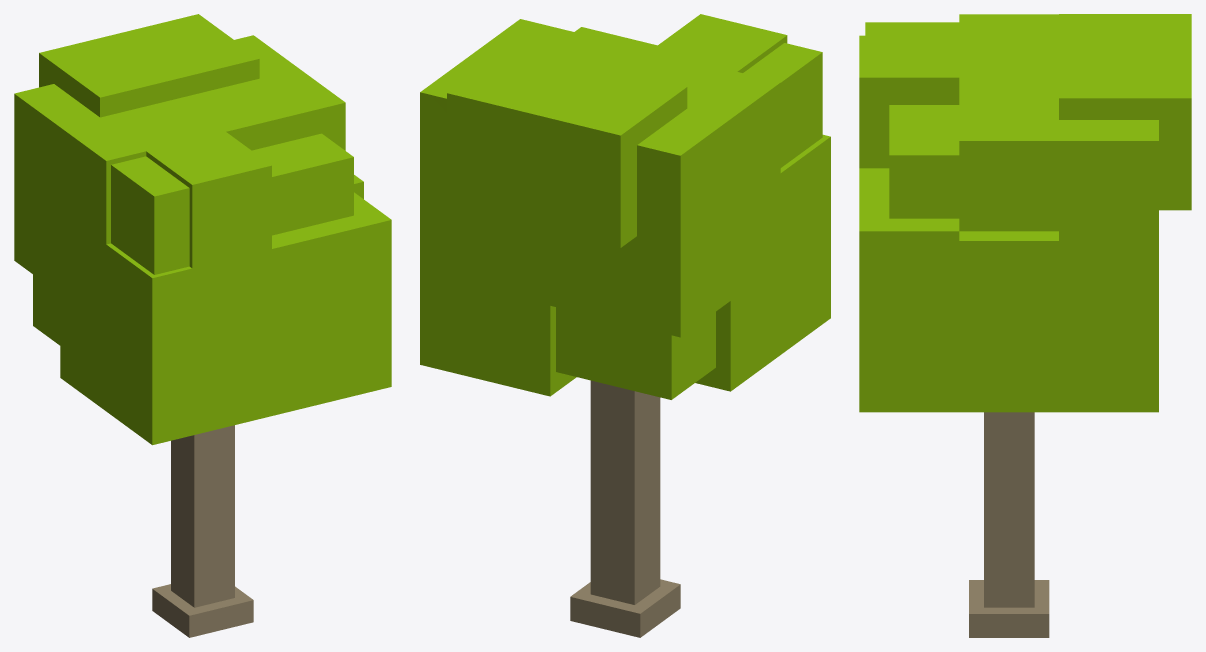
Rendered from tree_boxy_2.fbx.
3 views of the same model, side by side, from view 1: azimuth 30°, elevation 25°; view 2: azimuth 150°, elevation 25°; view 3: azimuth 270°, elevation 25° (orthographic). The views are drawn at different scales.
Parts seen in each view (by area): view 1: tree_boxy_2; view 2: tree_boxy_2; view 3: tree_boxy_2.
Part boxes in pixels (x1,y1,x2,y2): tree_boxy_2: (14,14,391,637); tree_boxy_2: (420,14,830,637); tree_boxy_2: (859,14,1191,637).
Size of the model in its own units: 99.49 by 192 by 103.
